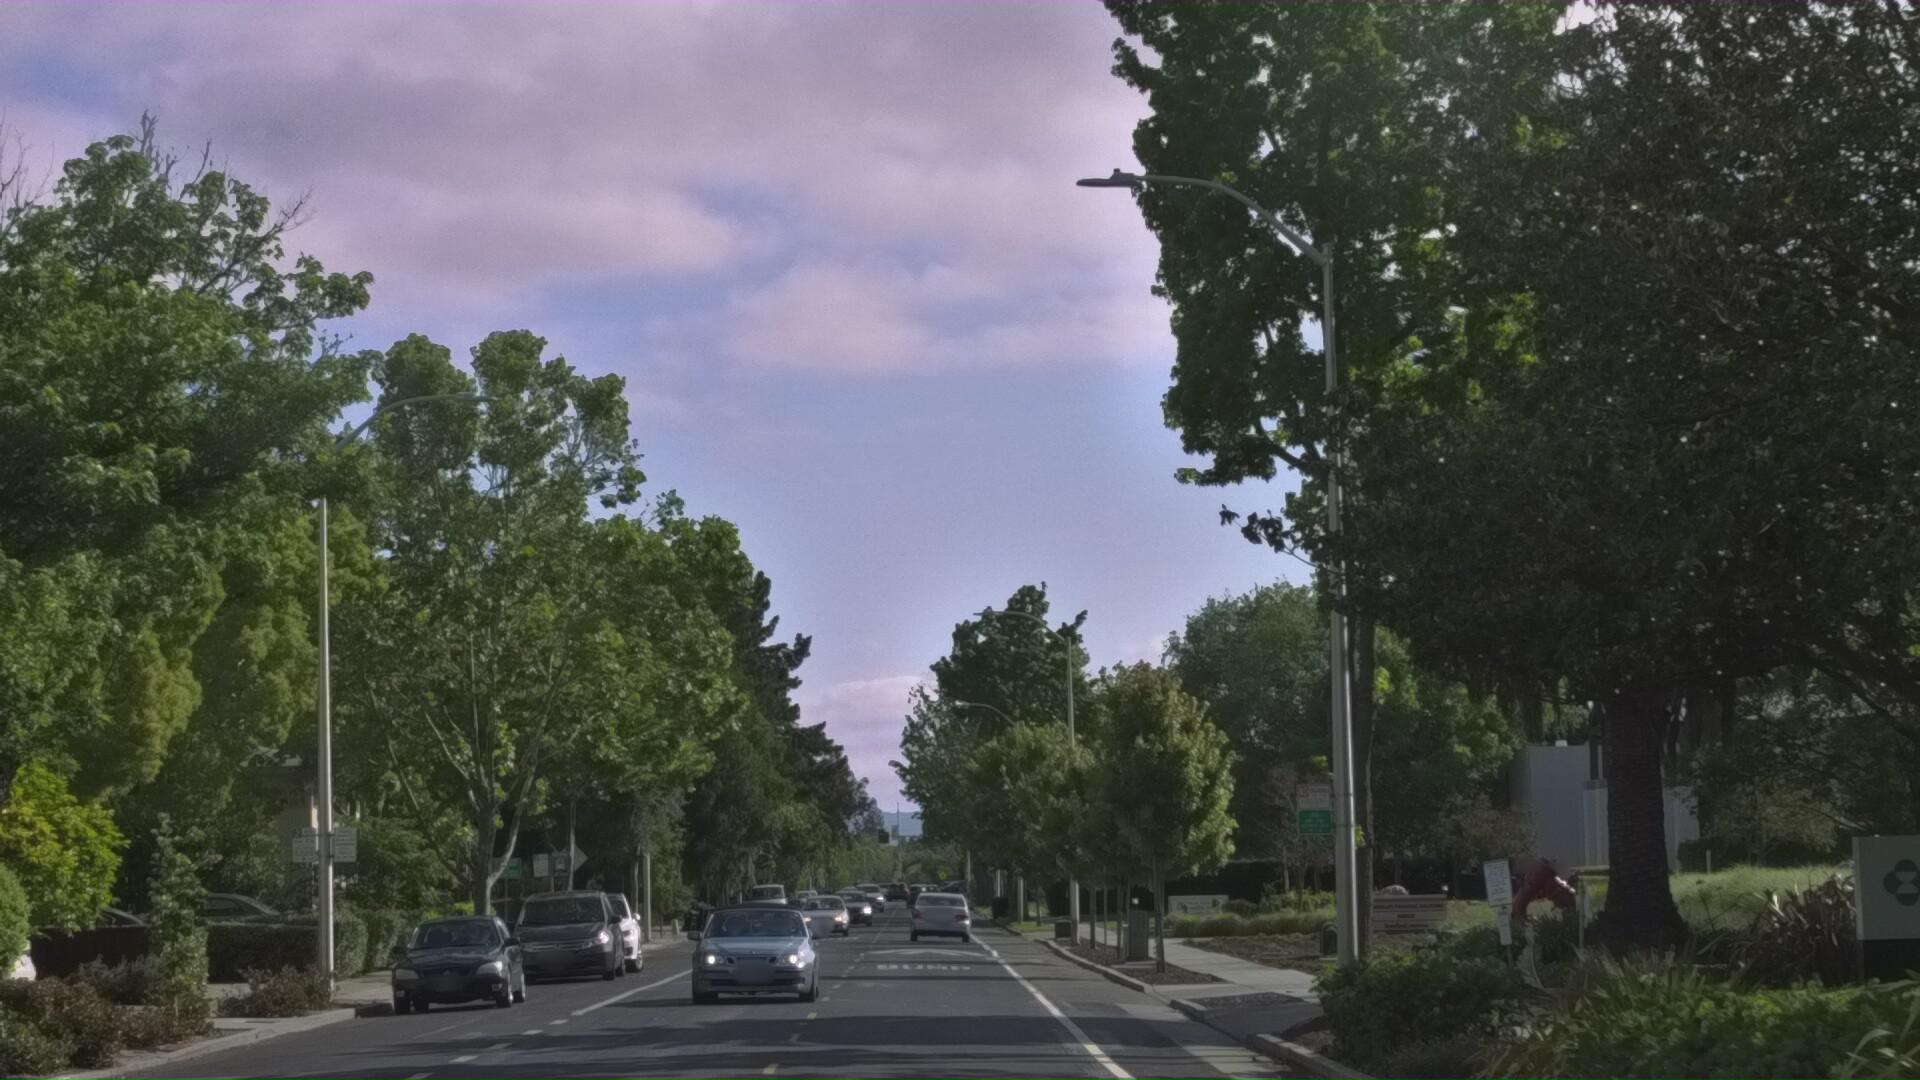car: (682, 982, 818, 1080), (514, 980, 638, 1080), (386, 1000, 541, 1080), (545, 982, 650, 1073)
